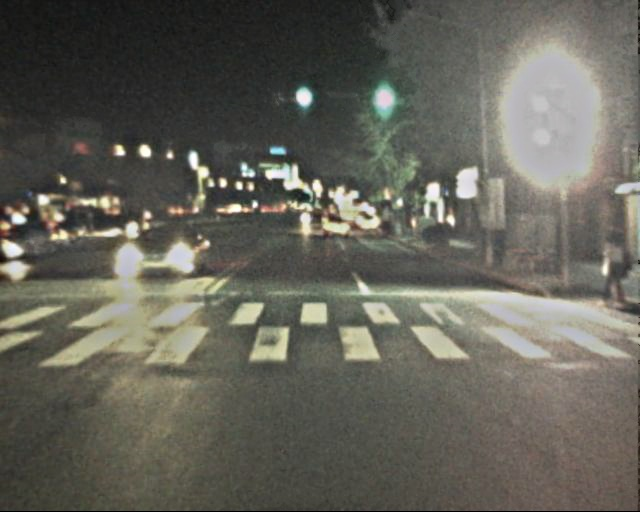person: (596, 227, 629, 308)
